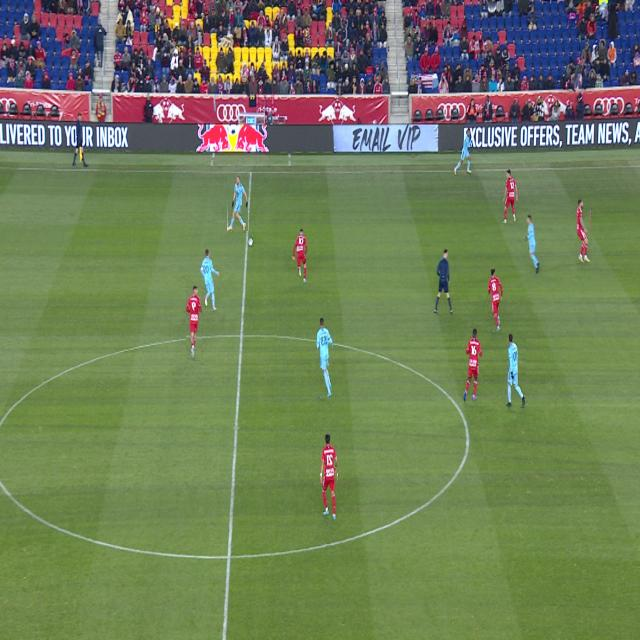football: (248, 237, 253, 246)
player: (506, 335, 526, 407), (321, 435, 337, 520), (464, 329, 482, 401), (200, 249, 219, 311), (317, 319, 332, 397), (227, 176, 248, 231), (187, 285, 201, 360), (502, 170, 518, 223), (577, 200, 590, 263), (489, 269, 502, 331), (454, 129, 471, 175), (293, 229, 307, 284), (526, 216, 539, 274)
referee: (434, 249, 453, 313)
